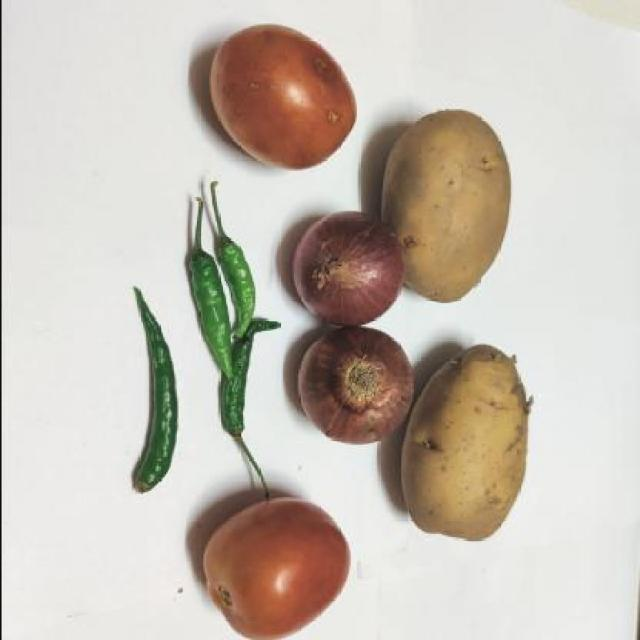Green Chili: (180, 188, 278, 450), (117, 282, 188, 509)
Onion: (292, 322, 416, 442), (288, 209, 404, 323)
Potato: (383, 102, 522, 310), (400, 340, 531, 558)
Tomato: (202, 3, 368, 183), (200, 487, 357, 640)
